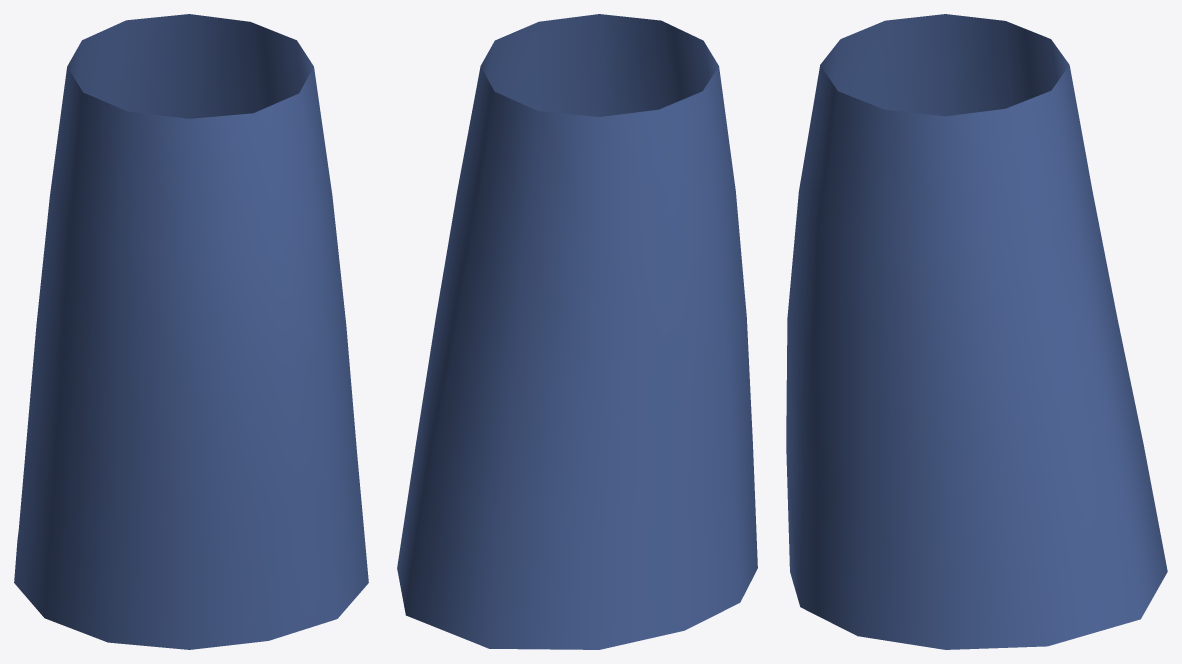
Rendered from spectre_armor_cuisse.L.glb.
3 renders of one model, left to right at view 1: azimuth 30°, elevation 25°; view 2: azimuth 150°, elevation 25°; view 3: azimuth 270°, elevation 25°, orthographic. The views are drawn at different scales.
Visible parts, largest first — view 1: spectre_armor_cuisse.L; view 2: spectre_armor_cuisse.L; view 3: spectre_armor_cuisse.L.
Part boxes in pixels (<box>): spectre_armor_cuisse.L: <box>14,14,368,649</box>; spectre_armor_cuisse.L: <box>397,14,757,649</box>; spectre_armor_cuisse.L: <box>786,14,1167,649</box>.
Bounding box in the file's own units: 0.2312 × 0.37 × 0.2524.
